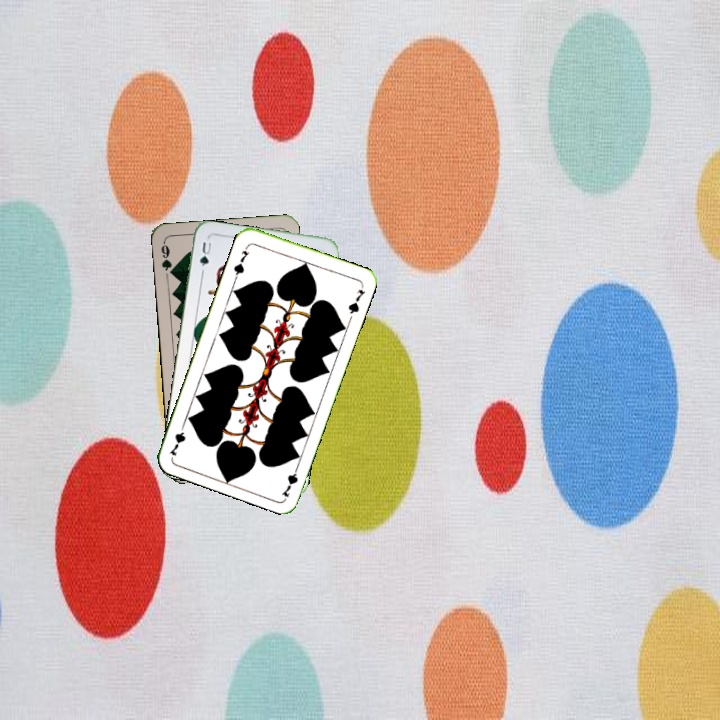G7: (278, 460, 302, 499), (229, 246, 252, 280)
G9: (157, 238, 177, 278)
GU: (196, 238, 214, 270)
